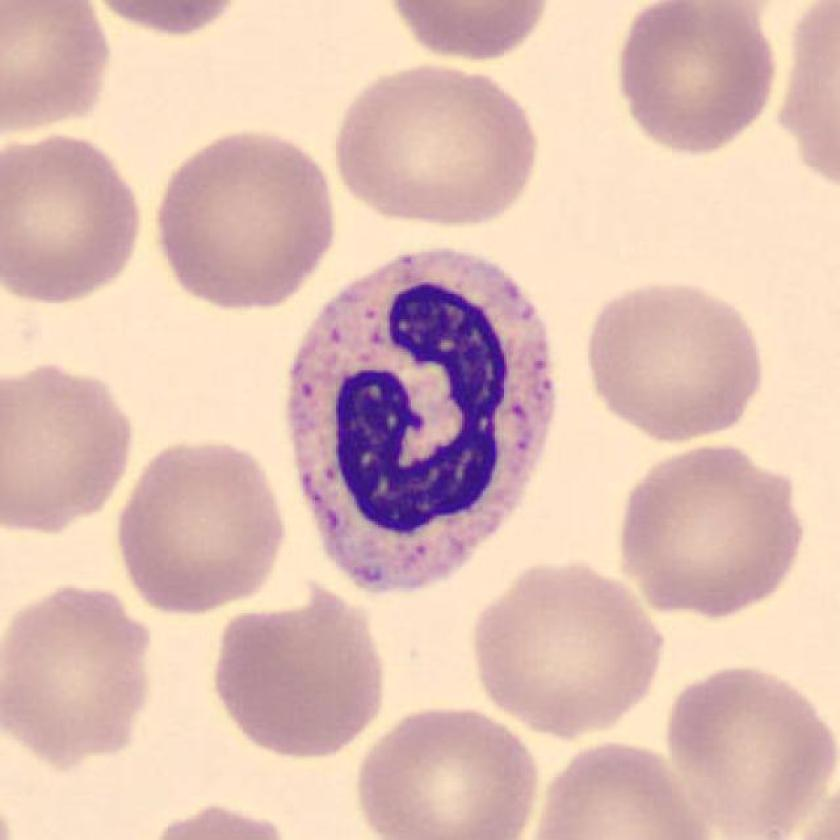neutrophil: (292, 245, 555, 592)
